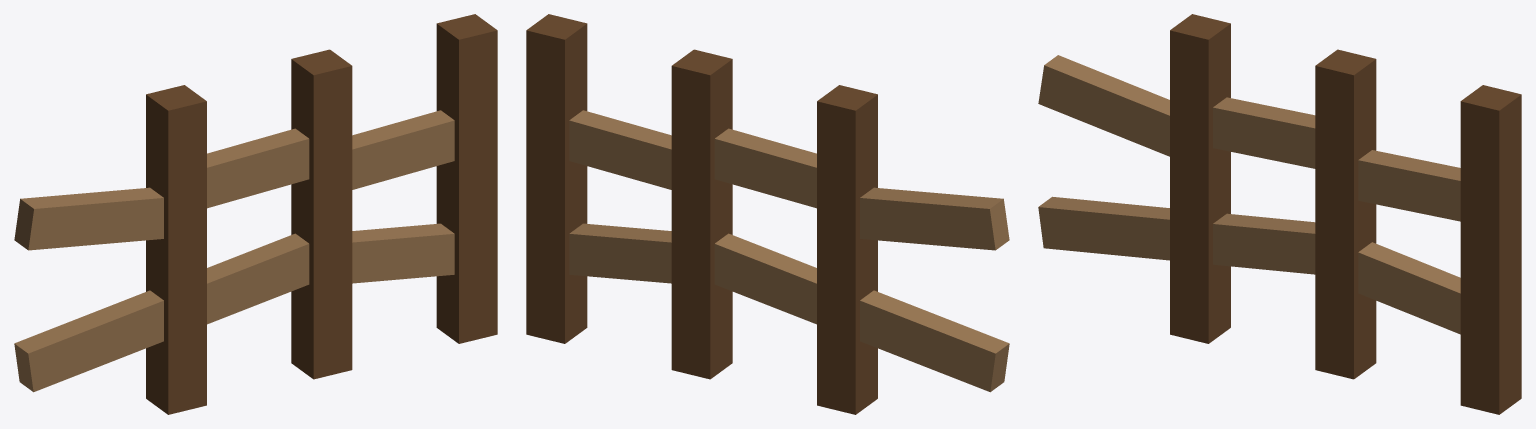
The model's file is tileFenceBorder.fbx.
The picture shows the model from 3 angles, left to right: view 1: azimuth 30°, elevation 25°; view 2: azimuth 150°, elevation 25°; view 3: azimuth 330°, elevation 25°; orthographic projection.
Parts seen in each view (by area): view 1: Cube.013, Cube.004, Cube.005, Cube.008, Cube.015, Cube.014, Cube.007, Cube.016; view 2: Cube.013, Cube.004, Cube.005, Cube.008, Cube.015, Cube.014, Cube.007, Cube.016; view 3: Cube.013, Cube.004, Cube.005, Cube.008, Cube.015, Cube.016, Cube.007, Cube.014.
Part boxes in pixels (x1=…): Cube.013: x1=436, y1=14, x2=497, y2=343; Cube.004: x1=291, y1=49, x2=352, y2=379; Cube.005: x1=146, y1=85, x2=206, y2=414; Cube.008: x1=14, y1=233, x2=309, y2=392; Cube.015: x1=14, y1=187, x2=163, y2=250; Cube.014: x1=352, y1=110, x2=454, y2=189; Cube.007: x1=207, y1=128, x2=309, y2=208; Cube.016: x1=352, y1=223, x2=454, y2=283; Cube.013: x1=526, y1=14, x2=587, y2=343; Cube.004: x1=671, y1=49, x2=732, y2=379; Cube.005: x1=817, y1=85, x2=877, y2=414; Cube.008: x1=714, y1=233, x2=1009, y2=392; Cube.015: x1=860, y1=187, x2=1009, y2=250; Cube.014: x1=569, y1=110, x2=671, y2=189; Cube.007: x1=714, y1=128, x2=816, y2=208; Cube.016: x1=569, y1=223, x2=671, y2=283; Cube.013: x1=1460, y1=85, x2=1521, y2=414; Cube.004: x1=1315, y1=49, x2=1376, y2=379; Cube.005: x1=1170, y1=14, x2=1230, y2=343; Cube.008: x1=1038, y1=196, x2=1315, y2=274; Cube.015: x1=1038, y1=55, x2=1169, y2=156; Cube.016: x1=1358, y1=242, x2=1460, y2=334; Cube.007: x1=1213, y1=97, x2=1315, y2=168; Cube.014: x1=1358, y1=150, x2=1460, y2=221.
Bounding box in the file's own units: 480 × 300 × 40.
1 material, 1 textured.
